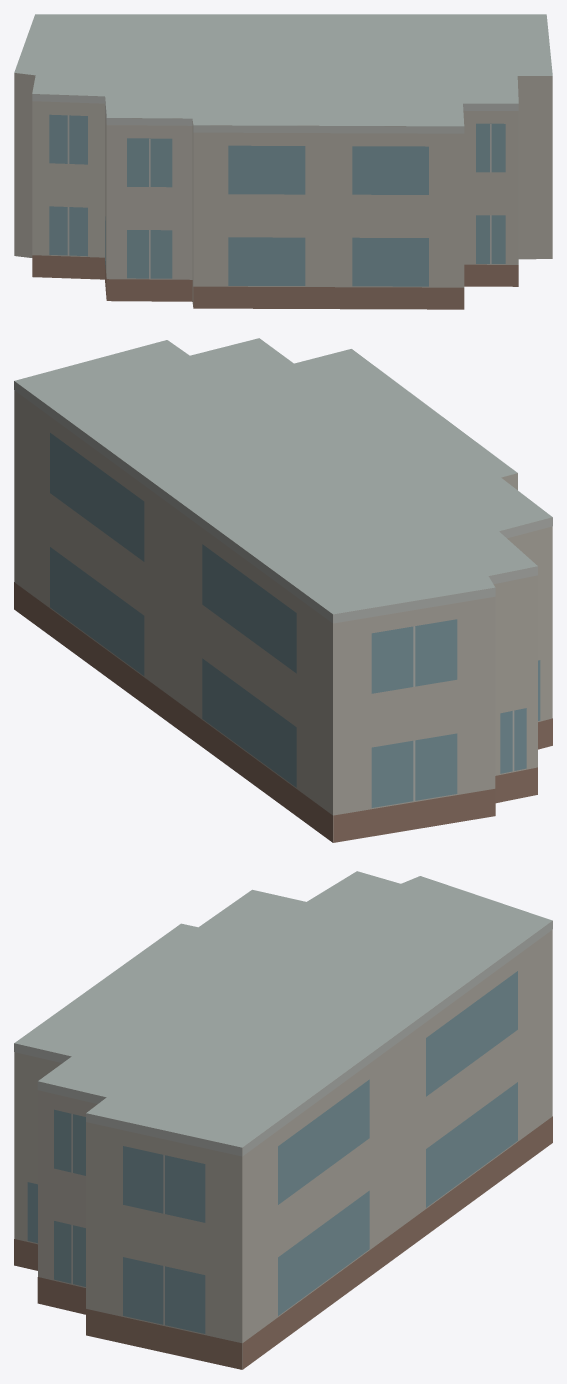
The model's file is survey-upis-32881074.glb.
3 renders of one model, top to bottom at view 1: azimuth 30°, elevation 25°; view 2: azimuth 150°, elevation 25°; view 3: azimuth 270°, elevation 25°, orthographic. The views are drawn at different scales.
Parts seen in each view (by area): view 1: survey-upis-32881074.tmp; view 2: survey-upis-32881074.tmp; view 3: survey-upis-32881074.tmp.
Boxes of the visible parts, x1,y1,x2,y2 form: survey-upis-32881074.tmp: [14, 14, 552, 309]; survey-upis-32881074.tmp: [14, 338, 552, 842]; survey-upis-32881074.tmp: [14, 871, 552, 1369].
Bounding box in the file's own units: 16.3 × 6.1 × 13.41.
